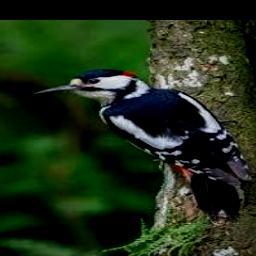Woodpecker: (34, 69, 252, 223)
